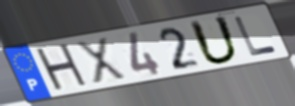2: (158, 26, 203, 72)
4: (127, 29, 163, 78)
H: (33, 41, 93, 95)
L: (232, 14, 280, 57)
U: (186, 14, 242, 66)
X: (74, 36, 131, 86)
